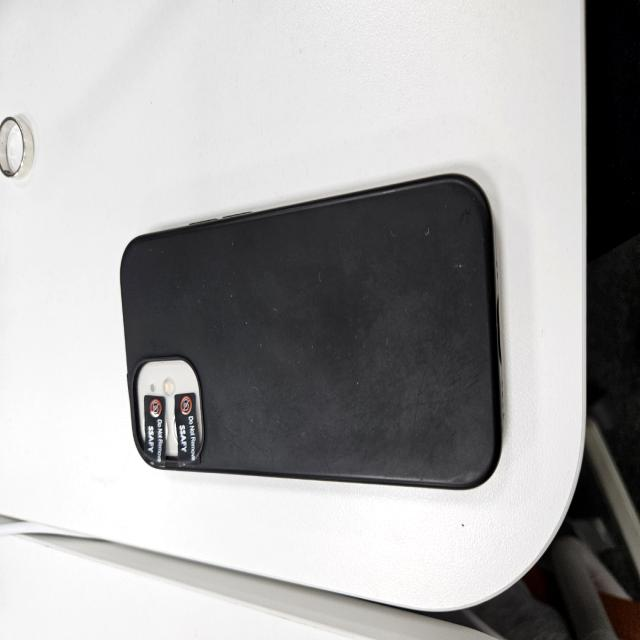phone: (120, 180, 504, 488)
sticker: (174, 394, 200, 468), (144, 395, 168, 469)
